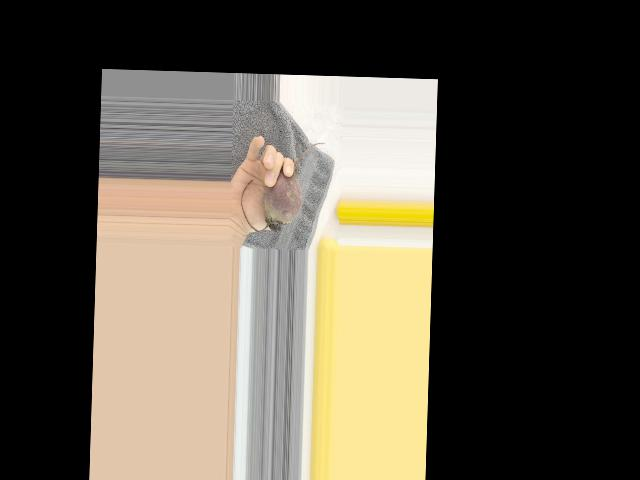beet: (240, 140, 324, 232)
